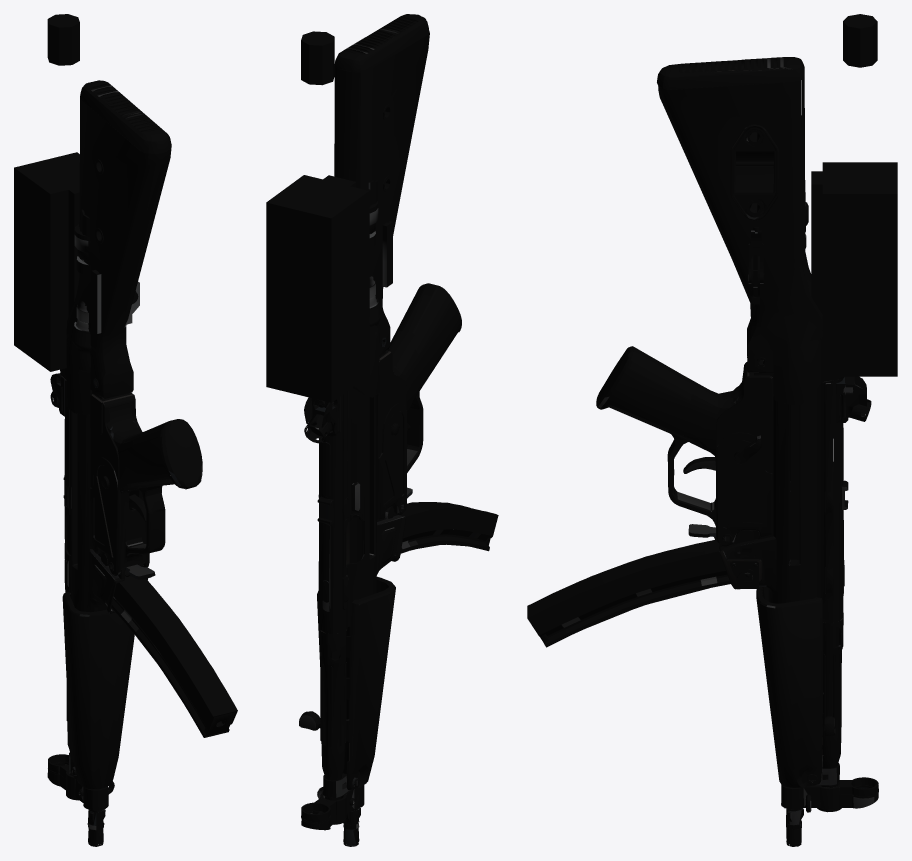
File: MP5A3__Adapter_HK_3Lug__Handguard_MP5_Rail__Light_Weapon.fbx
3 views of the same model, side by side, from view 1: azimuth 30°, elevation 25°; view 2: azimuth 150°, elevation 25°; view 3: azimuth 270°, elevation 25° (orthographic). The views are drawn at different scales.
Parts seen in each view (by area): view 1: asset_MP5A3.001; view 2: asset_MP5A3.001; view 3: asset_MP5A3.001.
Boxes of the visible parts, x1,y1,x2,y2 form: asset_MP5A3.001: (14,14,237,846); asset_MP5A3.001: (266,14,498,846); asset_MP5A3.001: (527,14,897,846).
Size of the model in its own units: 0.0324 by 0.378 by 0.1542.
